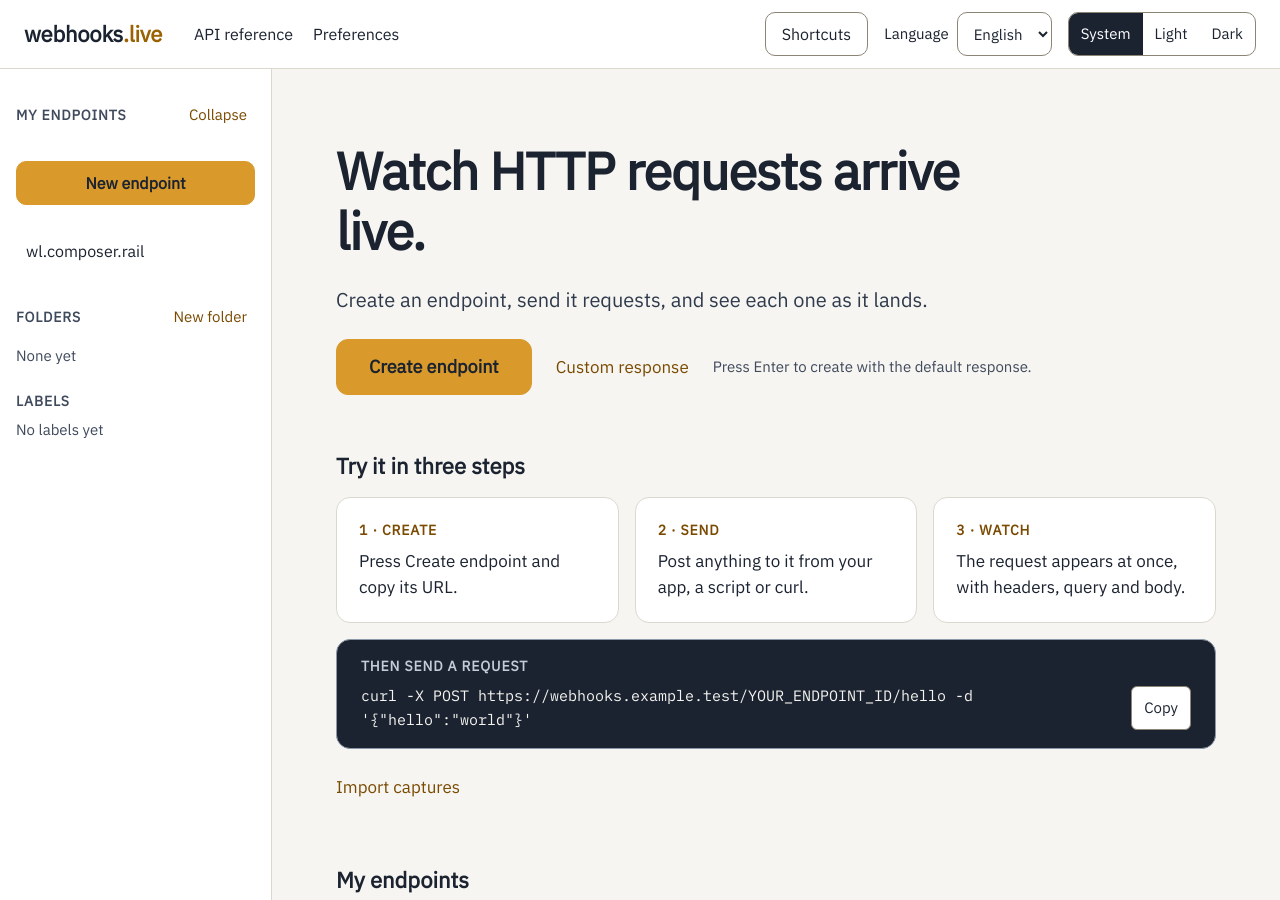
home screen › blocks submission and marks the status field when the client-side range is broken
Expected: the heading "Watch HTTP requests arrive live." is shown, [336,141,960,261]
Click the button "Custom response": (622, 367) [556,345,689,389]
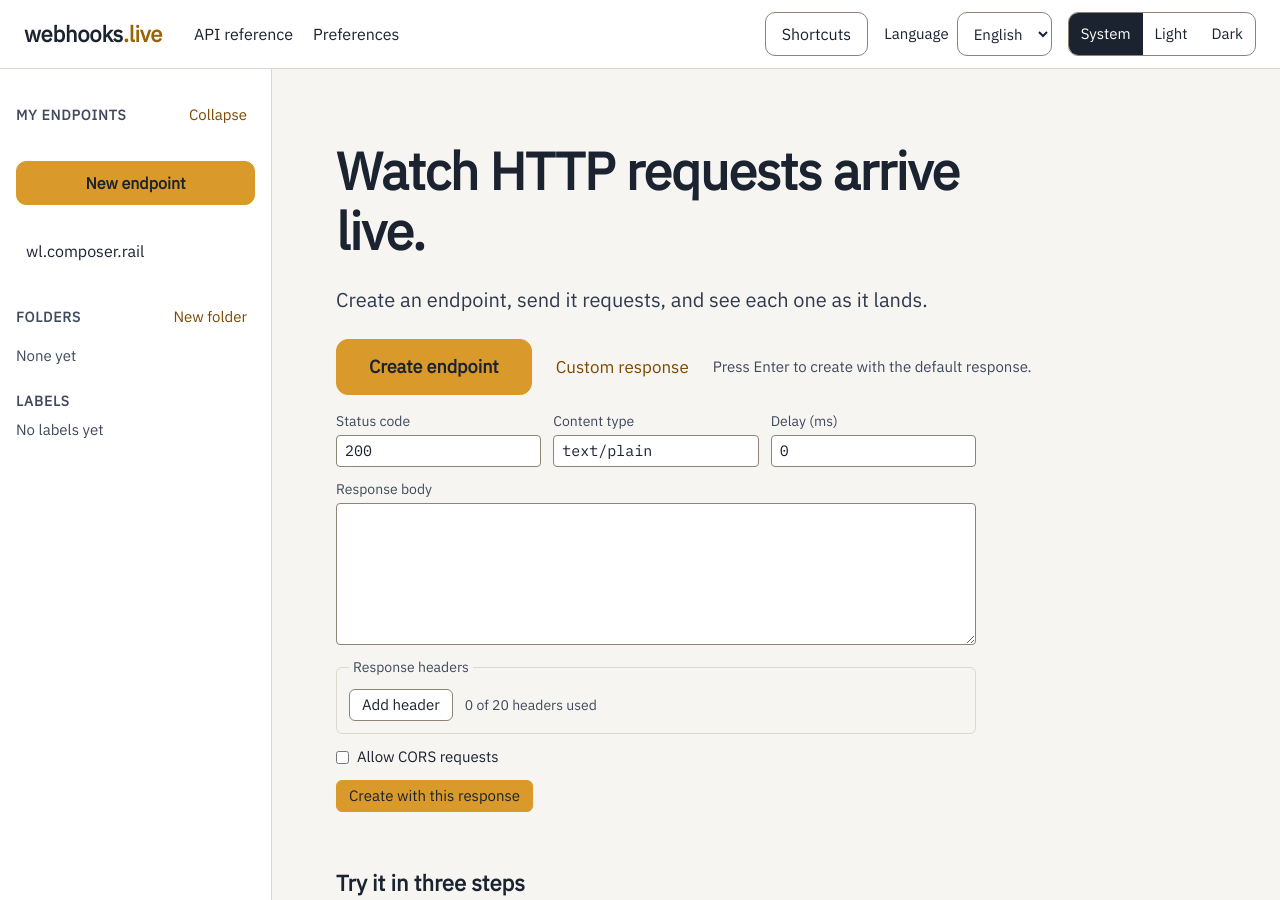
Replace the text in the number field labelled "Status code" with "99": (439, 451) [336,435,541,467]
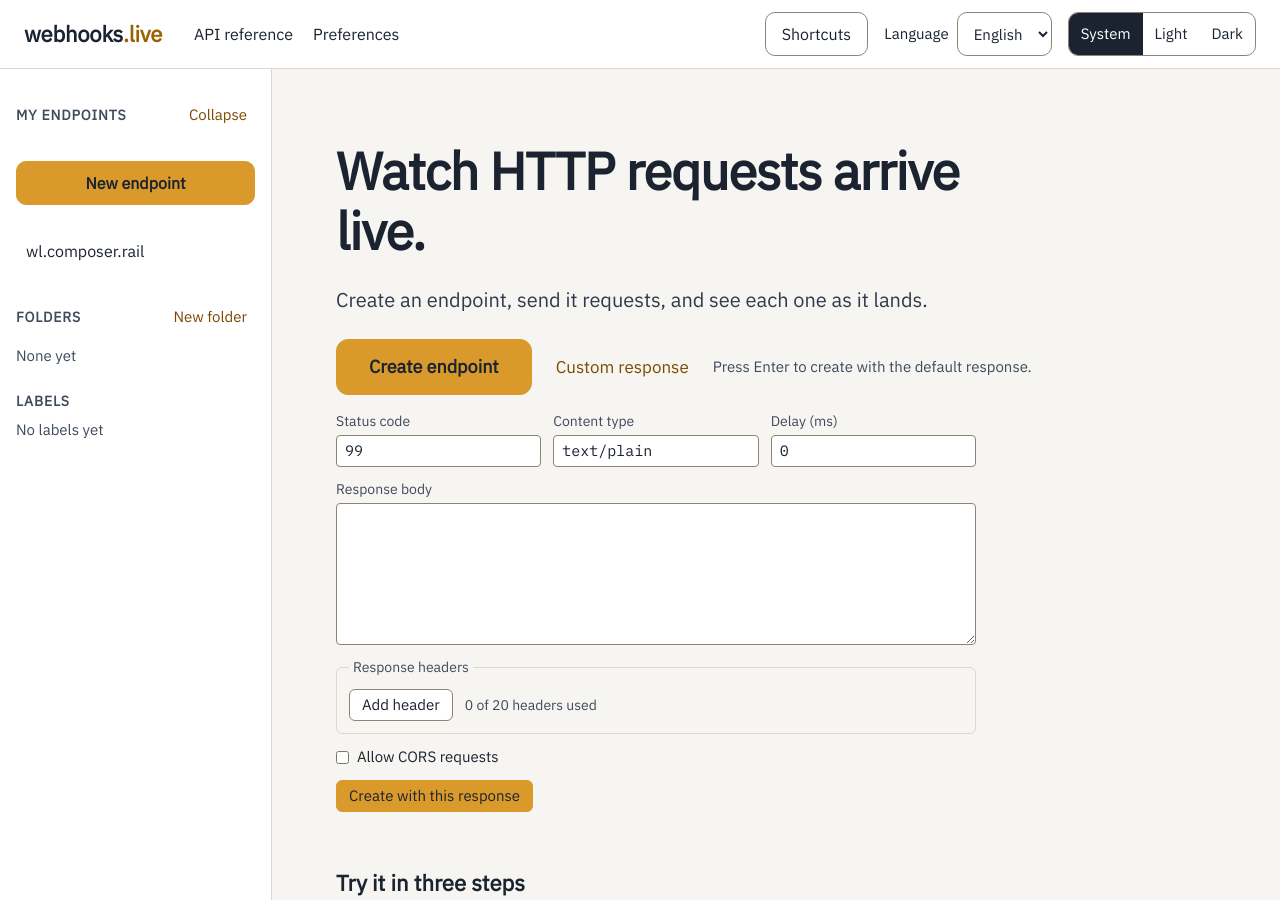
Click the button "Create with this response": (435, 796) [336,780,533,812]
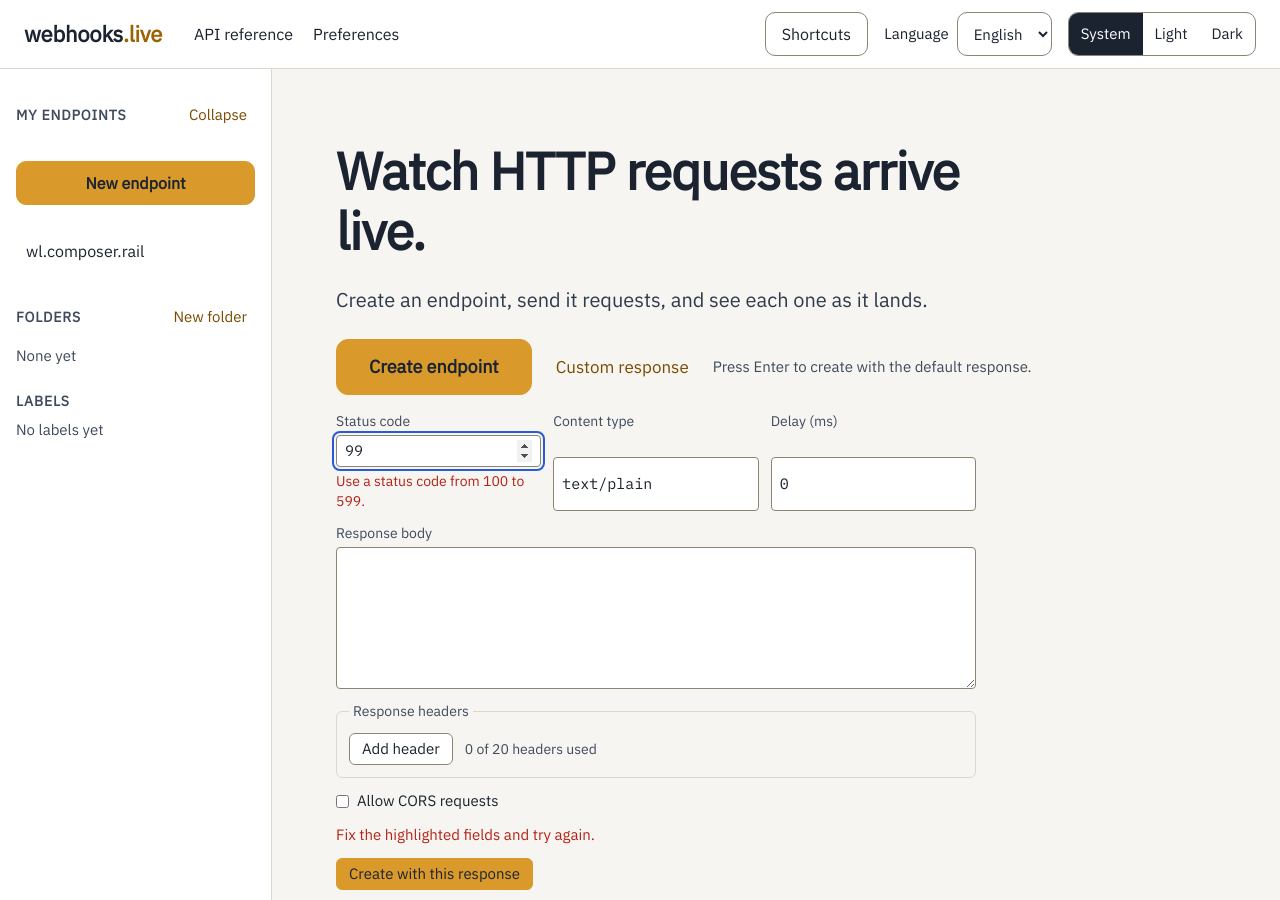
Now the text "Use a status code from 100 to 599." is shown, box [336,471,541,511]
